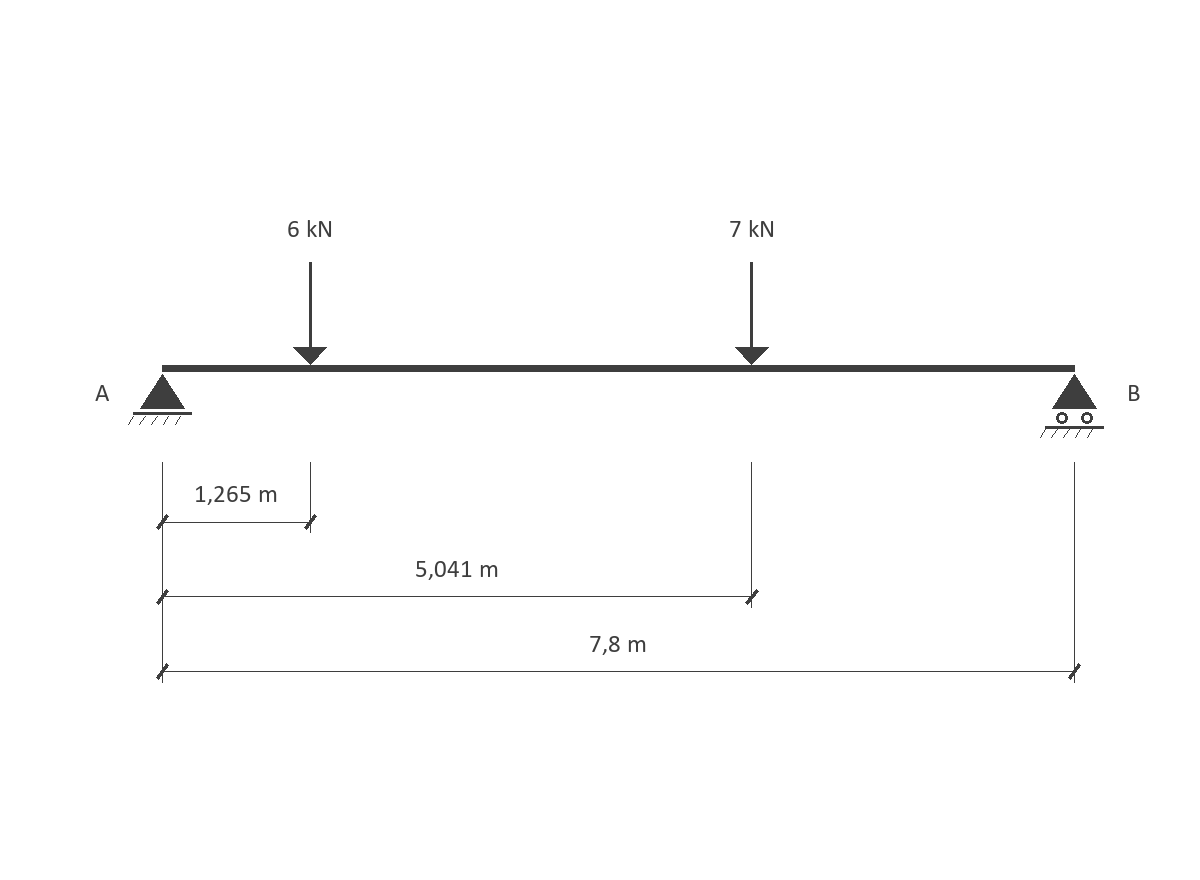pin_support: (128, 374, 192, 425)
point_load: (293, 262, 327, 365), (735, 262, 769, 365)
roller_support: (1040, 374, 1104, 438)
